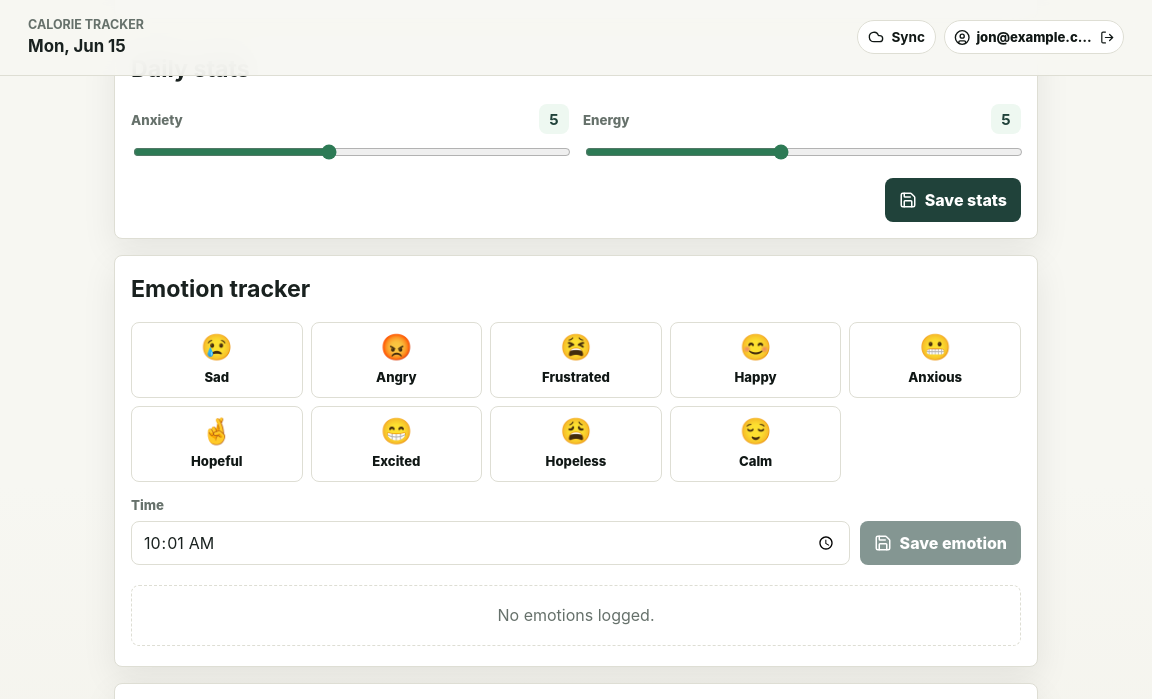
TrackerShell › logs and deletes an emotion moment
The width and height of the screenshot is (1152, 699).
(page scrolled)
Click the button "😊 Happy". click: (756, 360)
box: [670,322,841,398]
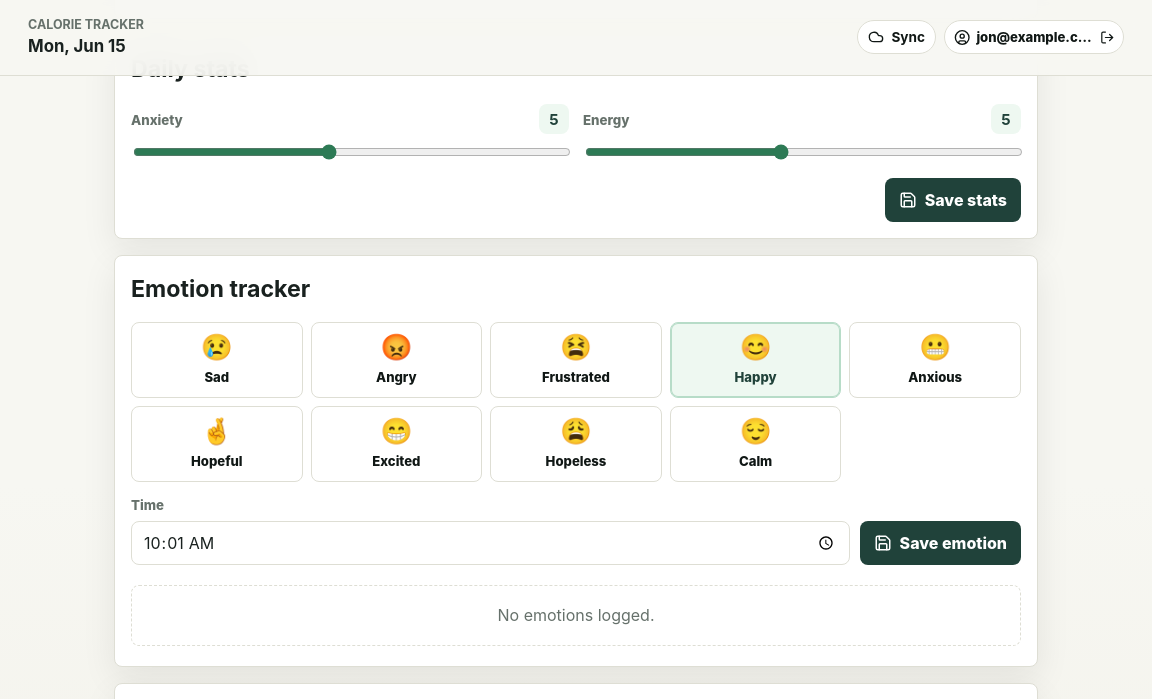
Replace the text in the time field labelled "Time" with "14:20". click: (490, 543)
box: [131,521,850,565]
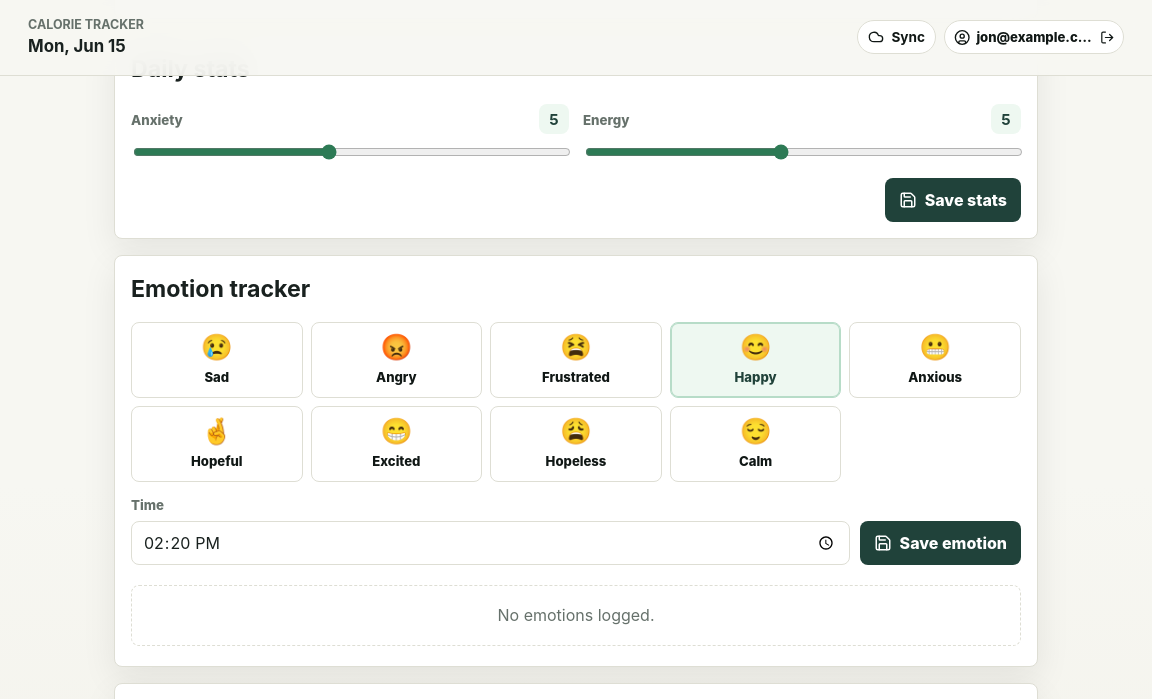
Click the button "Save emotion". click: (940, 543)
box: [860,521,1021,565]
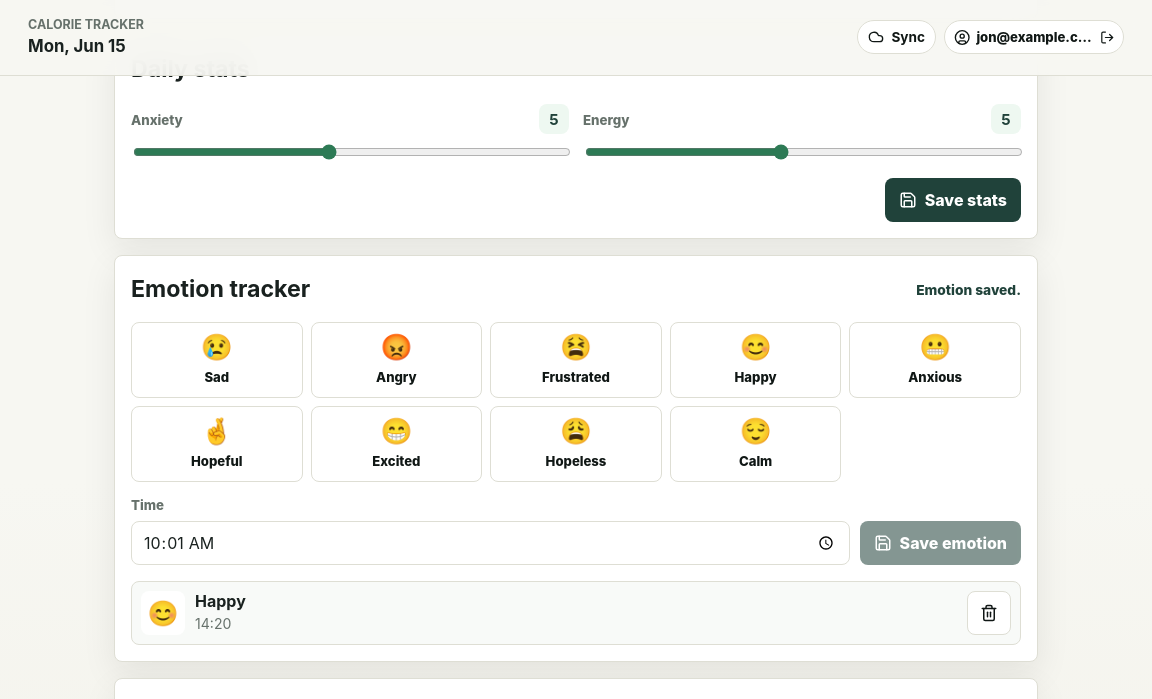
Result: the text "Emotion saved." is shown at [916,281,1021,300]
Result: the heading "Happy" is shown at [195,591,246,611]
Result: the text "14:20" is shown at [195,615,231,632]
Click the button named "Delete Happy emotion". click: (989, 613)
box: [967,591,1011,635]
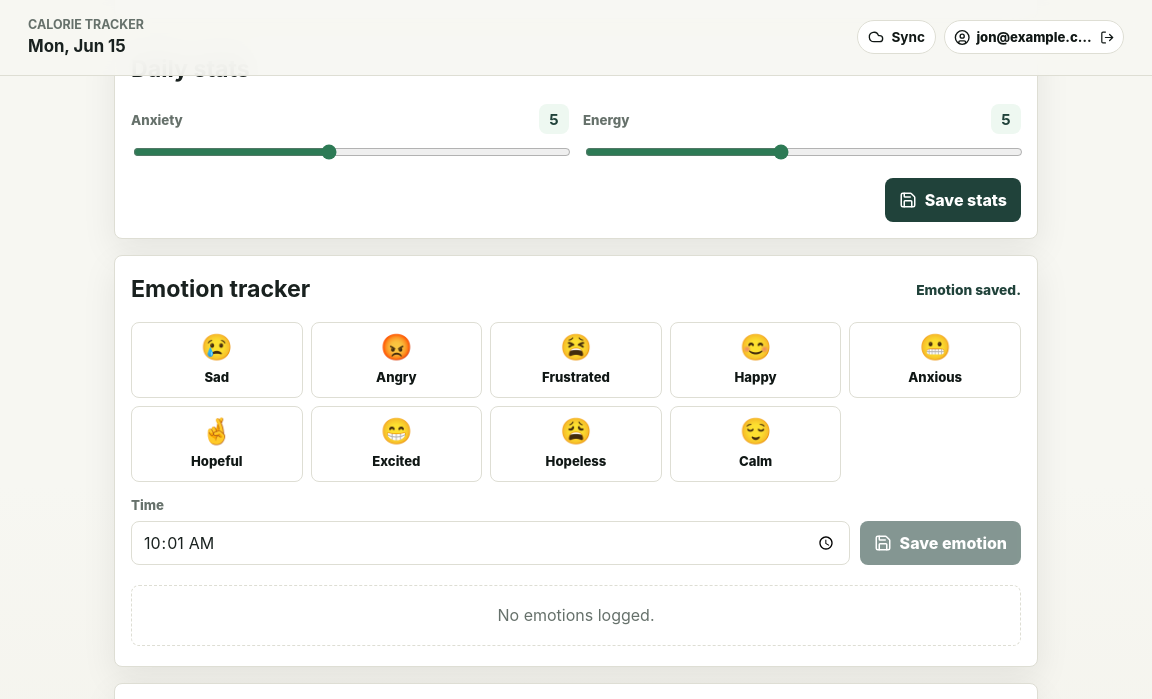
Result: the text "No emotions logged." is shown at [131,585,1021,646]
